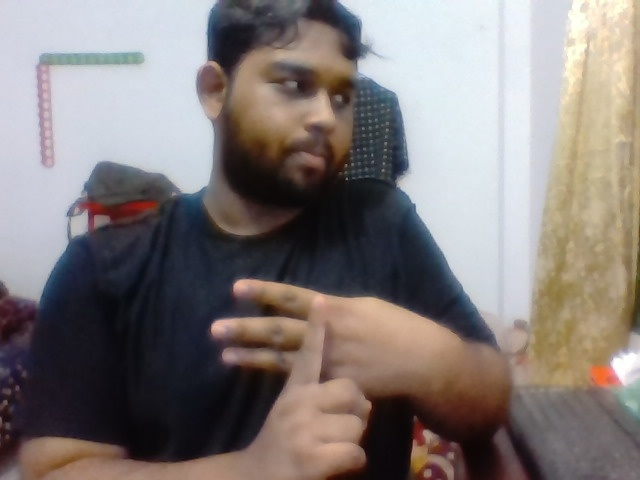E: (189, 261, 412, 473)
